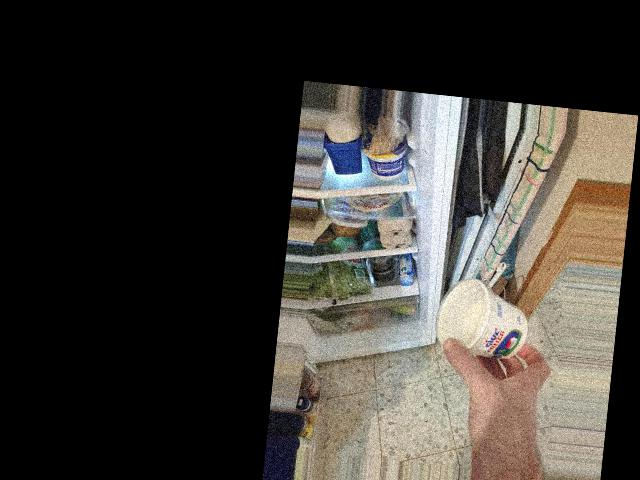cotage: (444, 269, 523, 360)
